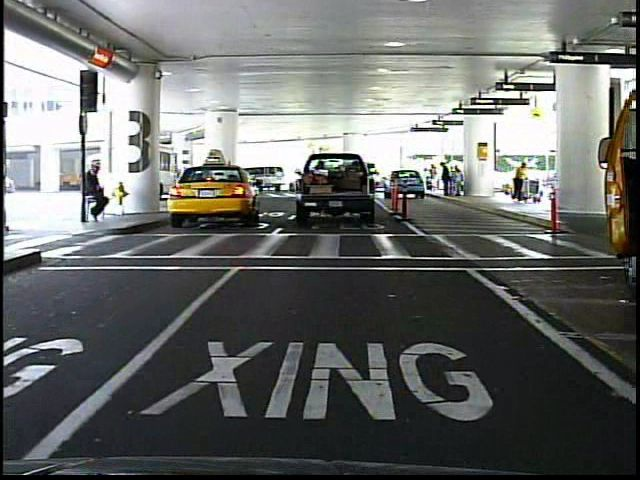person: (85, 161, 112, 229), (508, 158, 529, 208)
